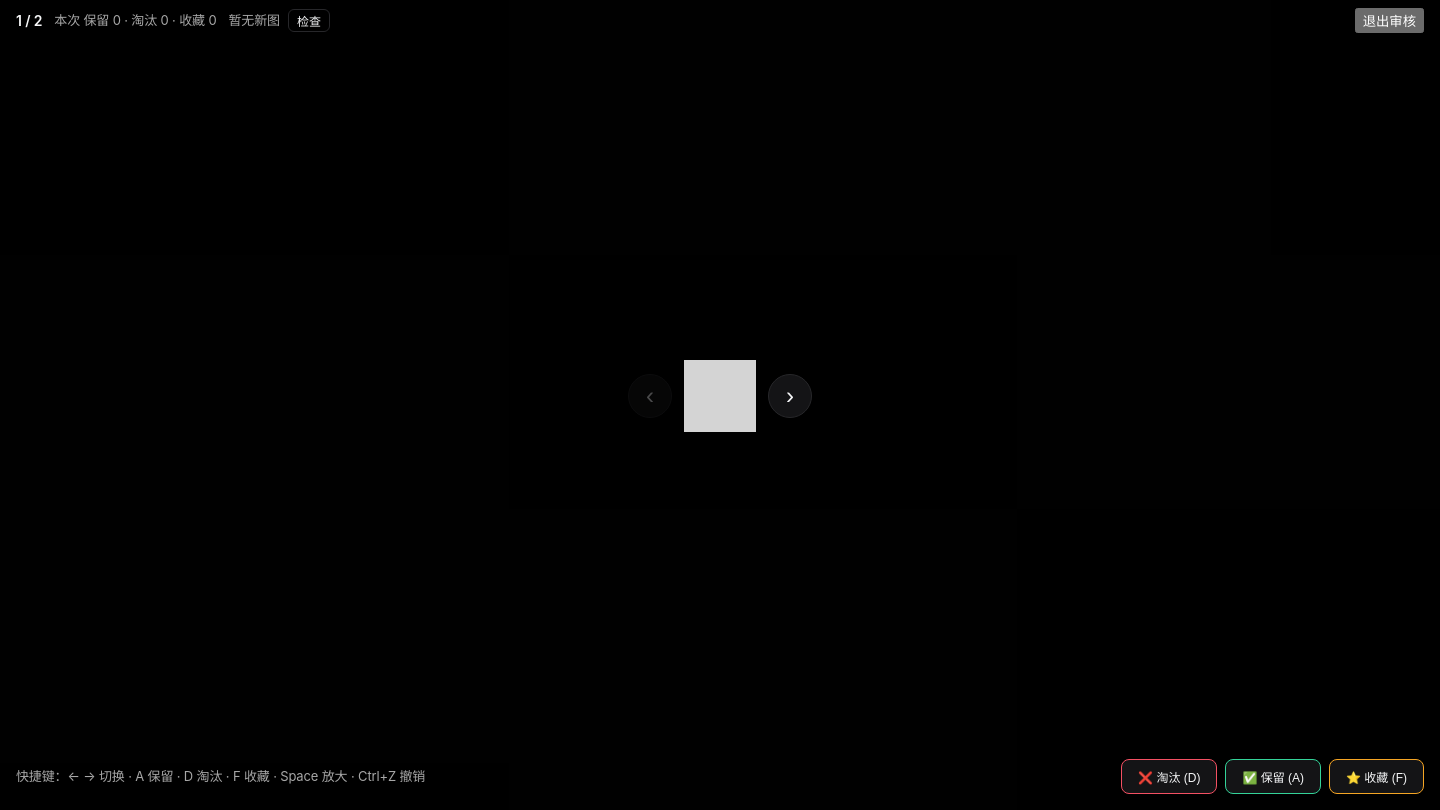
Test: ReviewMode 冻结会话适配器（/api/v1/review/*） › 打标走 adapter.decideMark（带 sessionIndex），成功后前进
Expected: the text "1 / 2" is shown, [16,11,42,30]
Click the button "✅ 保留 (A)": click(1273, 776) [1225,759,1321,794]
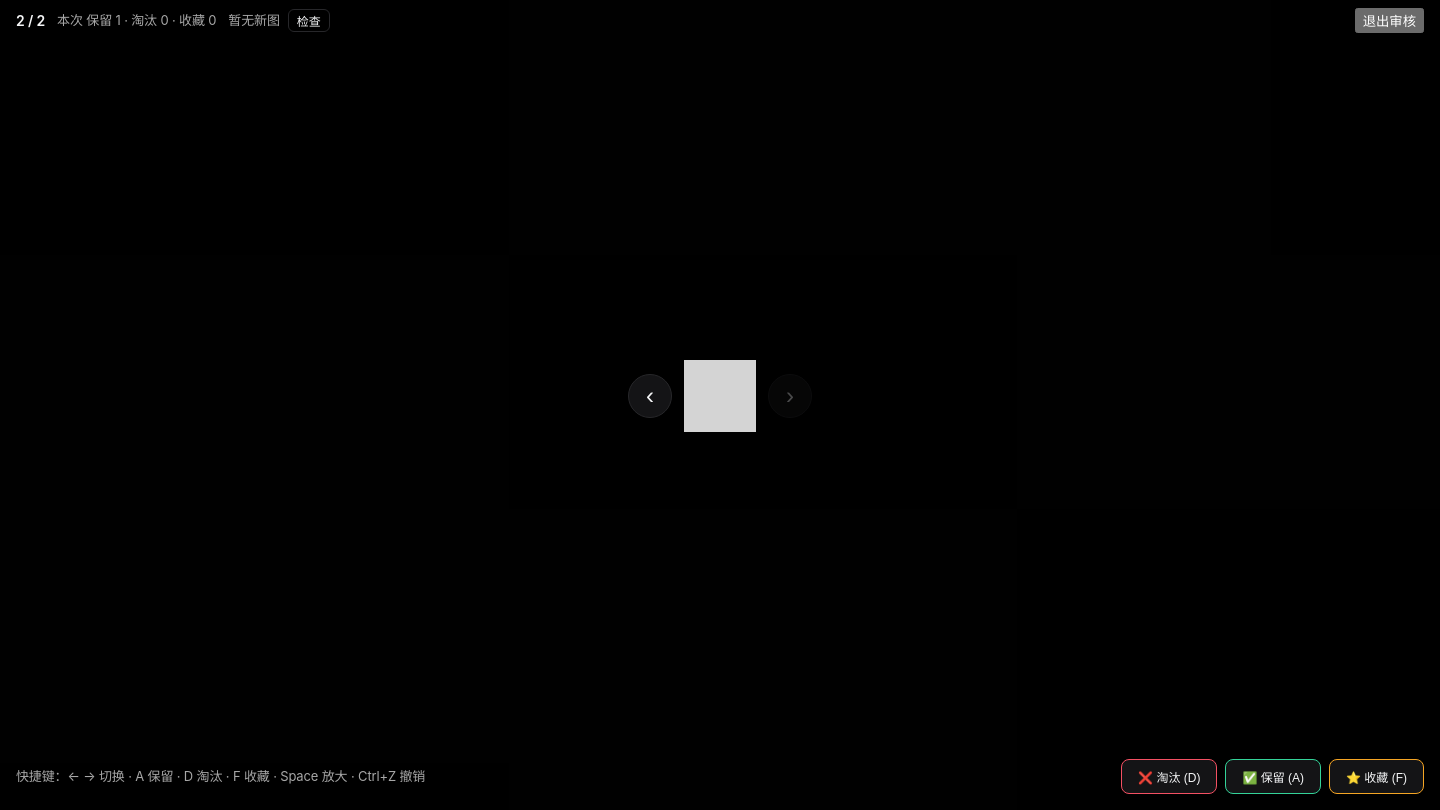
Result: the text "2 / 2" is shown at [16,11,45,30]
